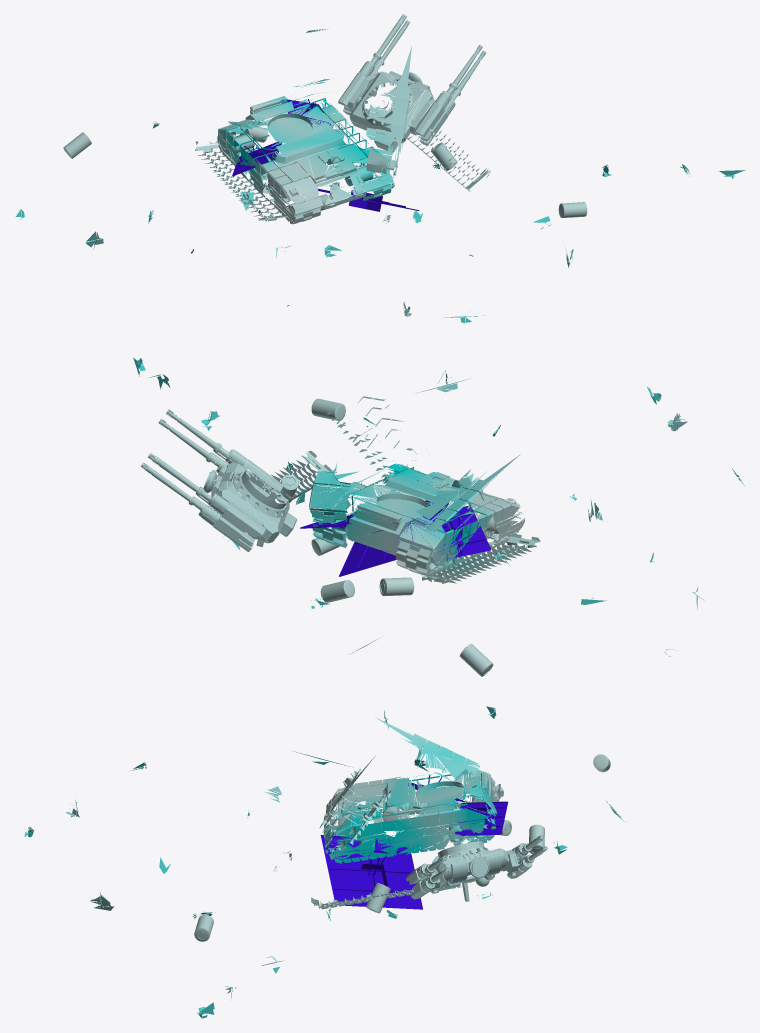
File: partisan_wreck.glb
3 renders of one model, top to bottom at view 1: azimuth 30°, elevation 25°; view 2: azimuth 150°, elevation 25°; view 3: azimuth 270°, elevation 25°, orthographic. The views are drawn at different scales.
Visible parts, largest first — view 1: Partisan Body, Partisan Turret, Partisan Body_plate, gun, wrecked_track_r, wrecked_track_l; view 2: Partisan Body, Partisan Turret, Partisan Body_plate (×3), frame (×2), gun, wrecked_track_r, wrecked_track_l, wrecked_wheel_l2, wrecked_wheel_r5, wrecked_wheel_l4, wrecked_wheel_l0; view 3: Partisan Body, frame (×2), Partisan Turret, Partisan Body_plate (×3), gun, wrecked_track_l.
Boxes of the visible parts, bbox=[...] form: Partisan Body: bbox=[217, 96, 394, 224]; Partisan Turret: bbox=[338, 57, 457, 152]; Partisan Body_plate: bbox=[364, 46, 411, 179]; gun: bbox=[371, 14, 486, 100]; wrecked_track_r: bbox=[194, 140, 286, 221]; wrecked_track_l: bbox=[407, 126, 489, 191]; Partisan Body: bbox=[312, 463, 524, 576]; Partisan Turret: bbox=[195, 447, 296, 551]; Partisan Body_plate (×3): bbox=[309, 396, 520, 541]; frame (×2): bbox=[339, 496, 491, 576]; gun: bbox=[140, 409, 228, 510]; wrecked_track_r: bbox=[420, 533, 540, 583]; wrecked_track_l: bbox=[242, 450, 336, 517]; wrecked_wheel_l2: bbox=[379, 577, 414, 595]; wrecked_wheel_r5: bbox=[459, 643, 493, 676]; wrecked_wheel_l4: bbox=[320, 580, 354, 602]; wrecked_wheel_l0: bbox=[311, 398, 345, 420]; Partisan Body: bbox=[323, 769, 497, 863]; frame (×2): bbox=[320, 801, 508, 909]; Partisan Turret: bbox=[406, 841, 532, 901]; Partisan Body_plate (×3): bbox=[319, 717, 496, 850]; gun: bbox=[424, 834, 547, 884]; wrecked_track_l: bbox=[311, 881, 464, 909].
Size of the model in its own units: 42.23 by 10.96 by 42.14.
